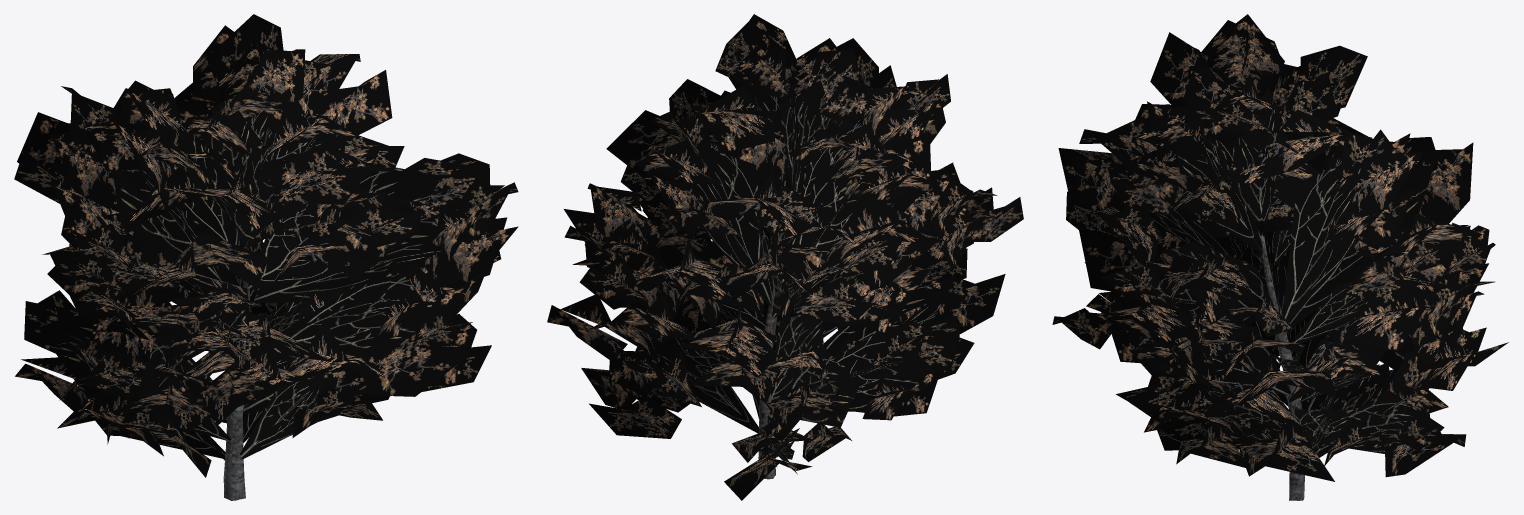
Rendered from Maple_Bush_3.fbx.
3 renders of one model, left to right at view 1: azimuth 30°, elevation 25°; view 2: azimuth 150°, elevation 25°; view 3: azimuth 270°, elevation 25°, orthographic. The views are drawn at different scales.
Parts seen in each view (by area): view 1: Leaves_1, Leaves_2, Branch, Tree; view 2: Leaves_1, Leaves_2, Branch, Tree; view 3: Leaves_1, Leaves_2, Branch, Tree.
Boxes of the visible parts, x1,y1,x2,y2 form: Leaves_1: [14, 14, 518, 444]; Leaves_2: [15, 25, 518, 477]; Branch: [38, 62, 464, 460]; Tree: [223, 247, 251, 500]; Leaves_1: [564, 20, 1023, 462]; Leaves_2: [547, 14, 970, 500]; Branch: [655, 73, 965, 474]; Tree: [758, 263, 783, 479]; Leaves_1: [1052, 32, 1495, 481]; Leaves_2: [1086, 14, 1508, 446]; Branch: [1114, 88, 1444, 457]; Tree: [1260, 235, 1304, 500].
Size of the model in its own units: 4.57 by 4.58 by 4.46.
